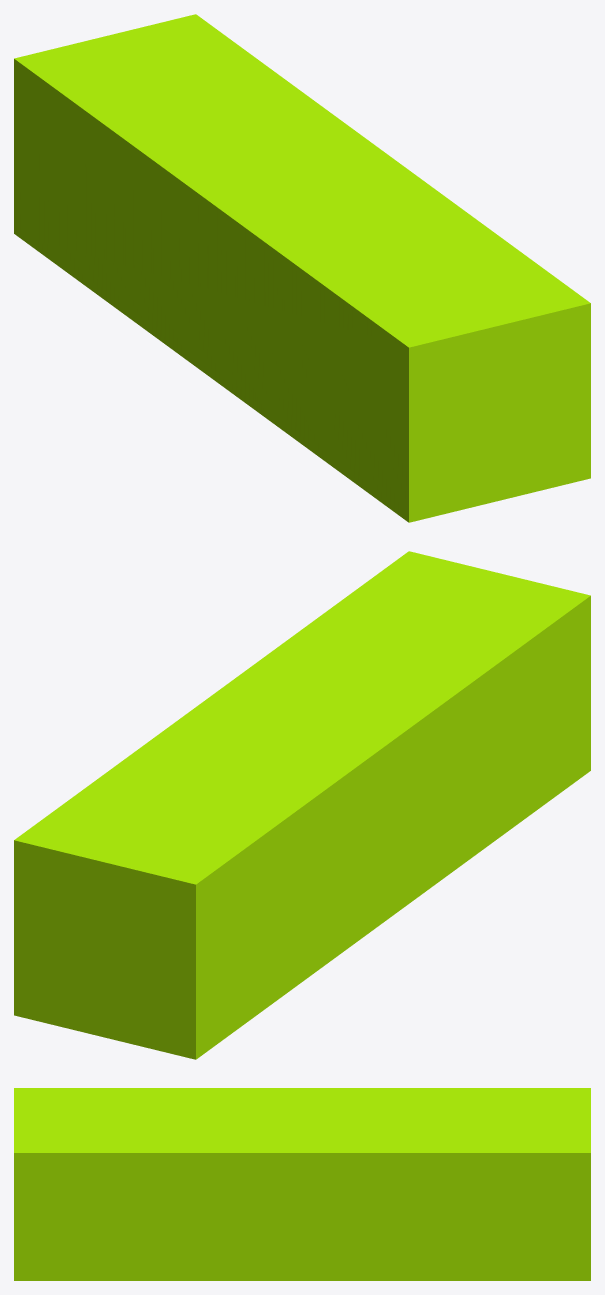
Rendered from bush_1_light_short.fbx.
The picture shows the model from 3 angles, top to bottom: view 1: azimuth 30°, elevation 25°; view 2: azimuth 150°, elevation 25°; view 3: azimuth 270°, elevation 25°; orthographic projection. The views are drawn at different scales.
Visible parts, largest first — view 1: Cube.061; view 2: Cube.061; view 3: Cube.061.
Boxes of the visible parts, left/top/right/bottom form: Cube.061: left=14, top=14, right=590, bottom=522; Cube.061: left=14, top=551, right=590, bottom=1059; Cube.061: left=14, top=1088, right=590, bottom=1280.
Size of the model in its own units: 217 by 200 by 817.
Materials: 1 (1 with a texture image).
